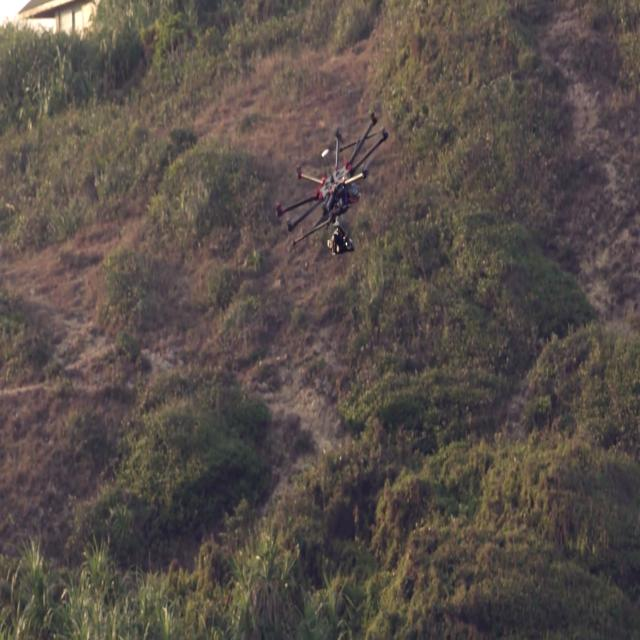drone: (260, 100, 402, 273)
